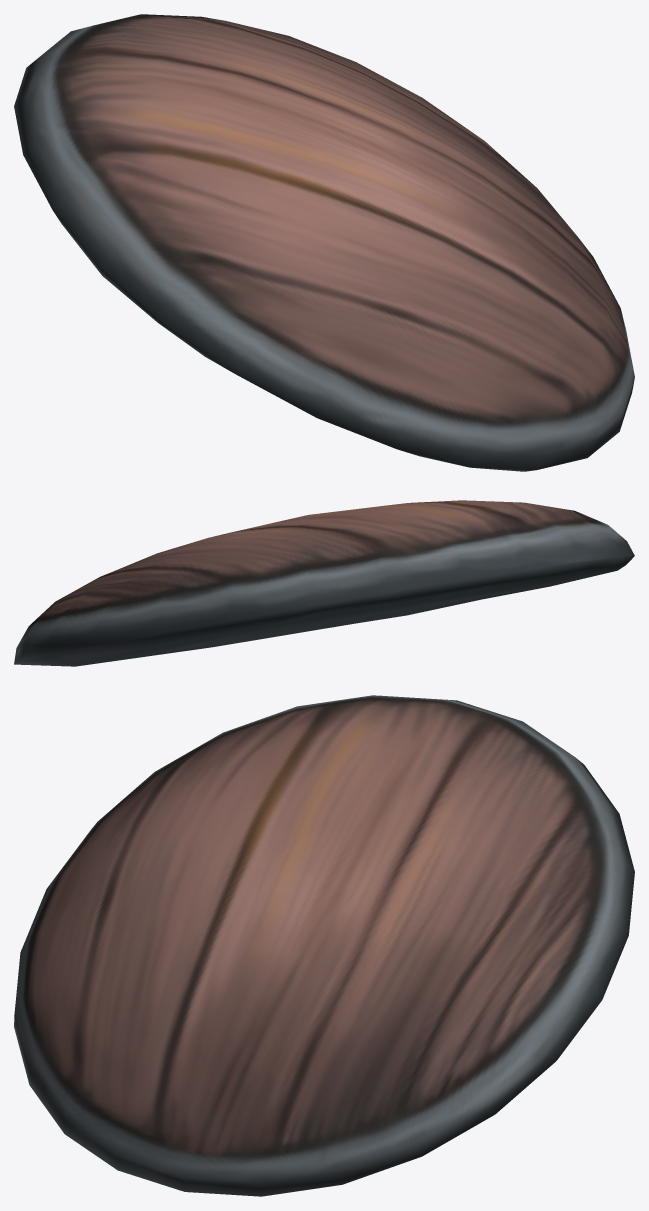
The model's file is dunpai02.fbx.
3 renders of one model, top to bottom at view 1: azimuth 30°, elevation 25°; view 2: azimuth 150°, elevation 25°; view 3: azimuth 270°, elevation 25°, orthographic. The views are drawn at different scales.
Parts seen in each view (by area): view 1: dunpai02; view 2: dunpai02; view 3: dunpai02.
Part boxes in pixels (bbox=[...]): dunpai02: bbox=[14, 14, 634, 471]; dunpai02: bbox=[14, 500, 634, 666]; dunpai02: bbox=[14, 695, 634, 1196].
Size of the model in its own units: 15.51 by 8.37 by 15.92.
1 material, 1 textured.
